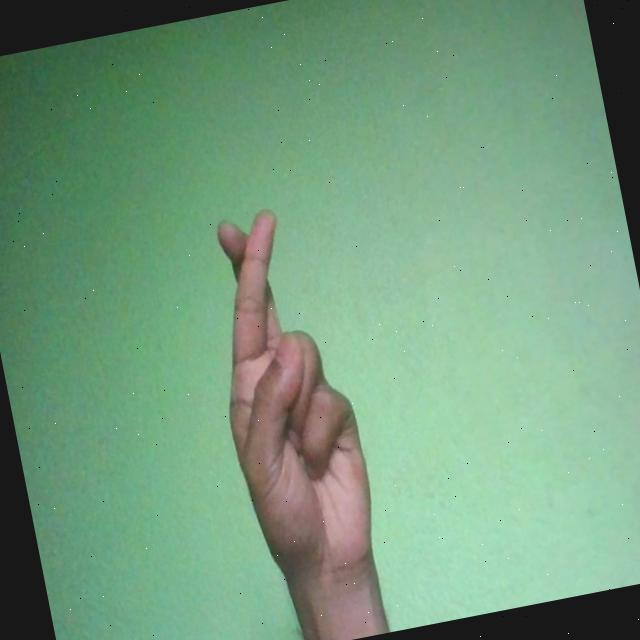Ok: (190, 198, 388, 593)
